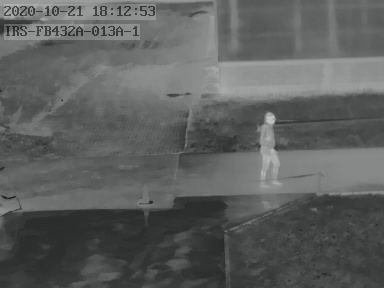person: (256, 111, 283, 188)
